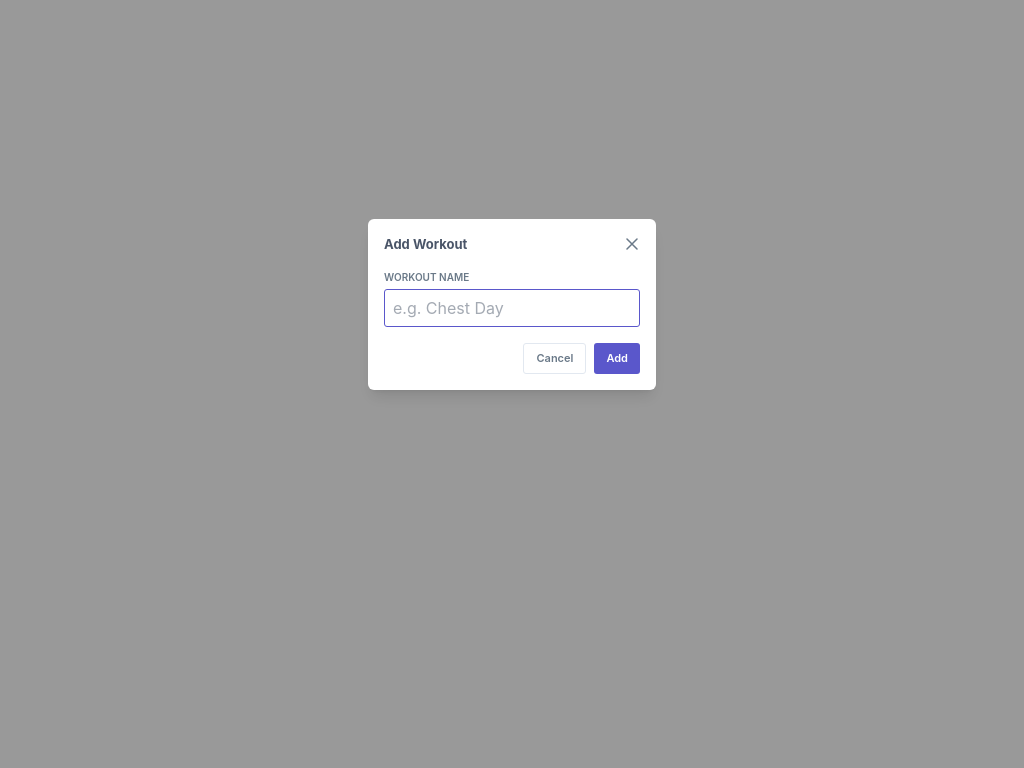
Test: WorkoutFormModal — add mode › clears validation error when user starts typing
Click the button "Add" at (617,358), box x1=594 y1=343 x2=640 y2=374
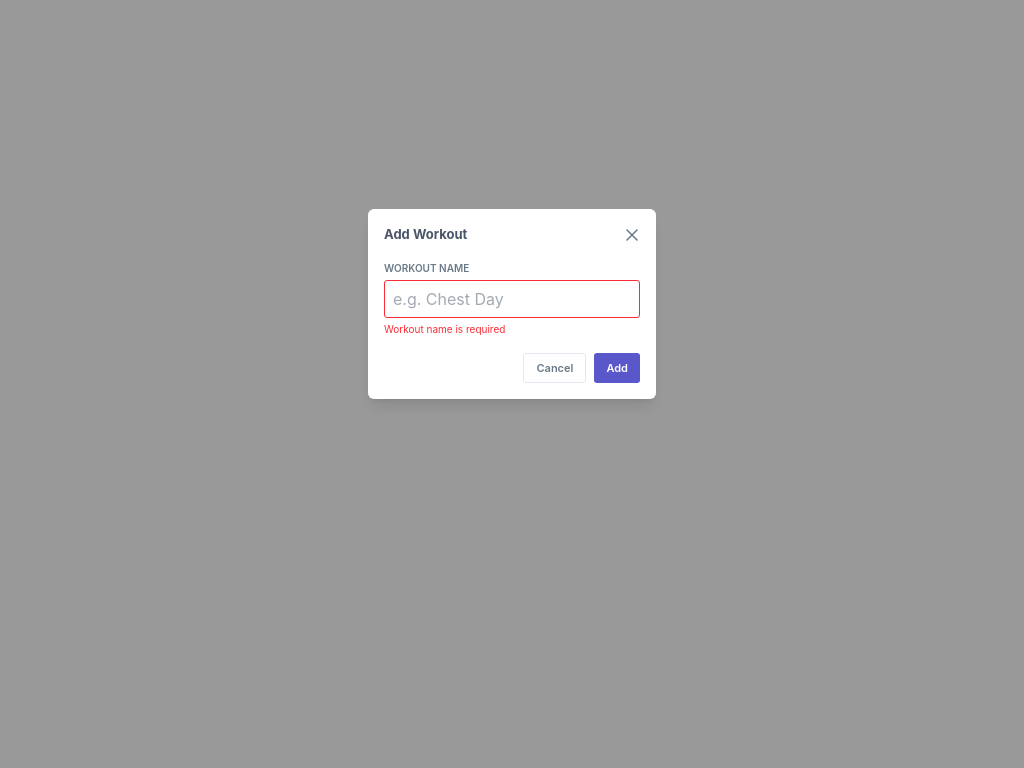
Expected: the message "Workout name is required" is shown, x1=384 y1=322 x2=505 y2=334
Type "A" into the field labelled "Workout Name" at (512,298), box x1=384 y1=280 x2=640 y2=318
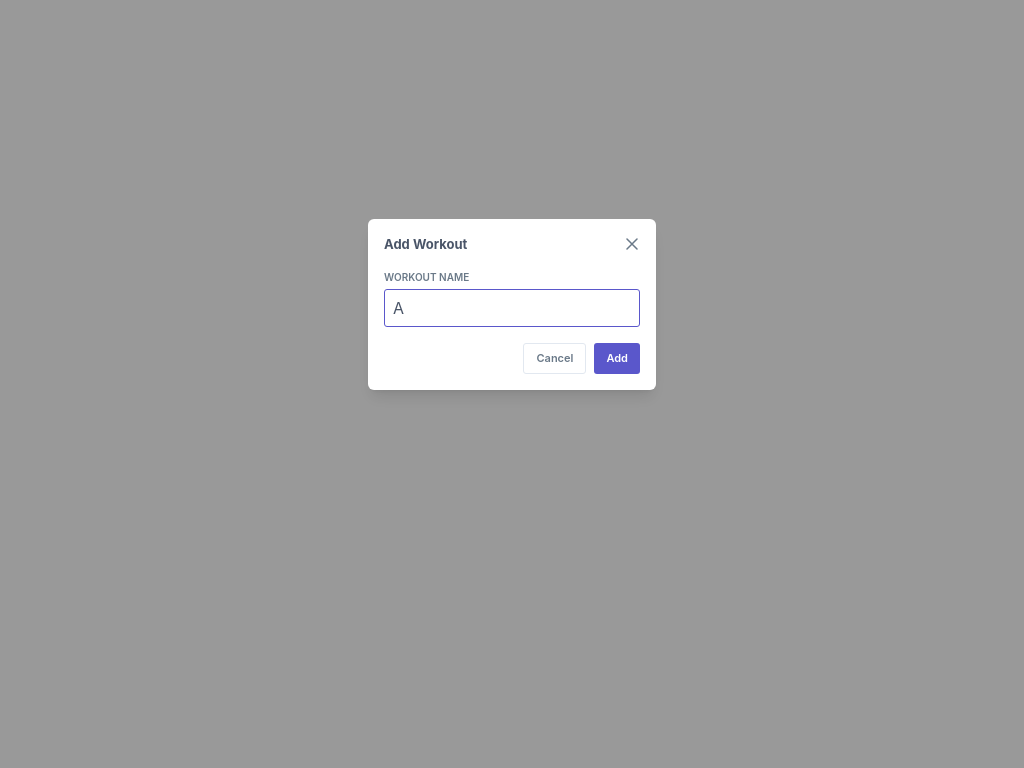
Expected: the message "Workout name is required" is gone
